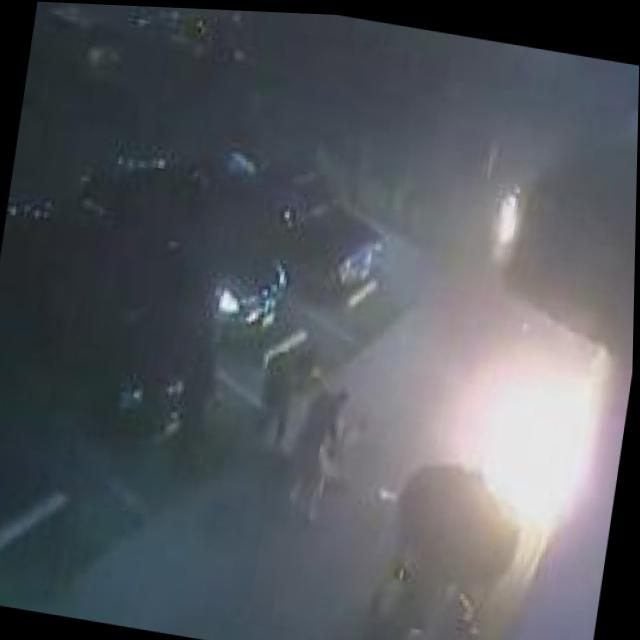fire: (430, 322, 624, 558), (479, 171, 536, 258)
